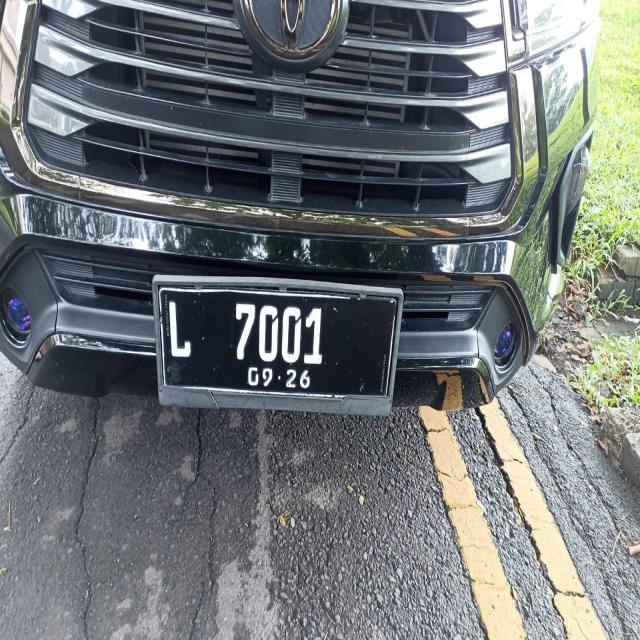license-plate: (152, 275, 402, 415)
